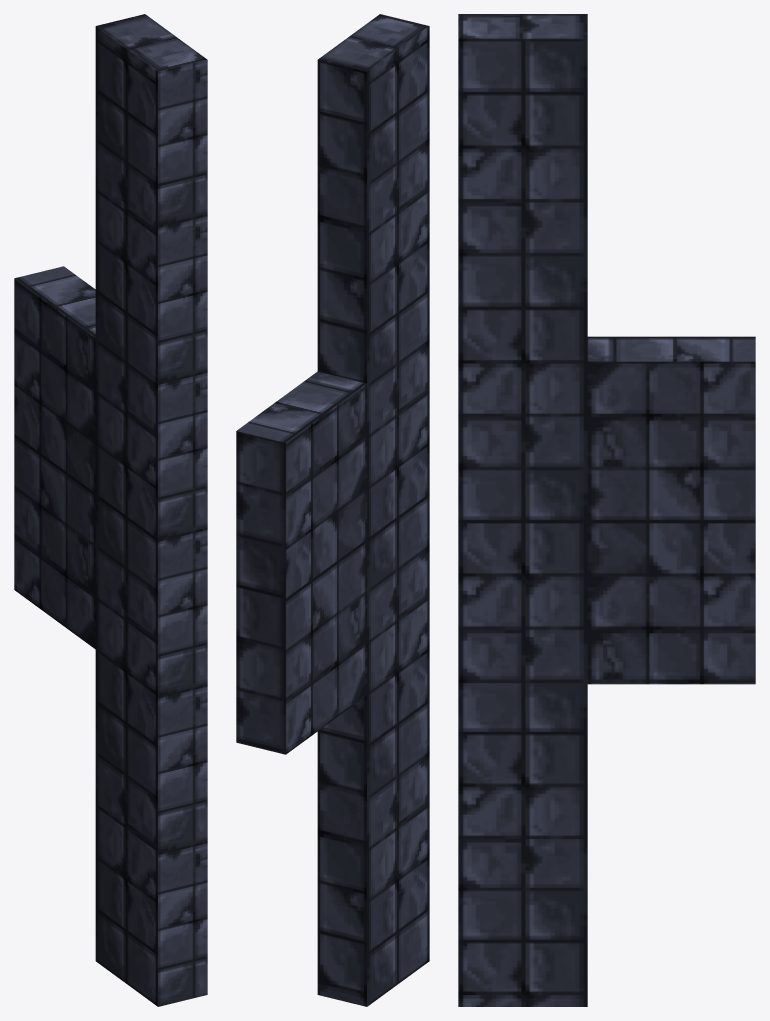
The model's file is Ledge Platform.fbx.
3 views of the same model, side by side, from view 1: azimuth 30°, elevation 25°; view 2: azimuth 150°, elevation 25°; view 3: azimuth 270°, elevation 25° (orthographic). The views are drawn at different scales.
Visible parts, largest first — view 1: Entrance Platform; view 2: Entrance Platform; view 3: Entrance Platform.
Part boxes in pixels (box(x1,y1,x2,y2)): Entrance Platform: box(14, 14, 207, 1006); Entrance Platform: box(236, 14, 429, 1006); Entrance Platform: box(458, 14, 755, 1006).
Bounding box in the file's own units: 35.93 × 649 × 181.
Materials: 1 (1 with a texture image).
